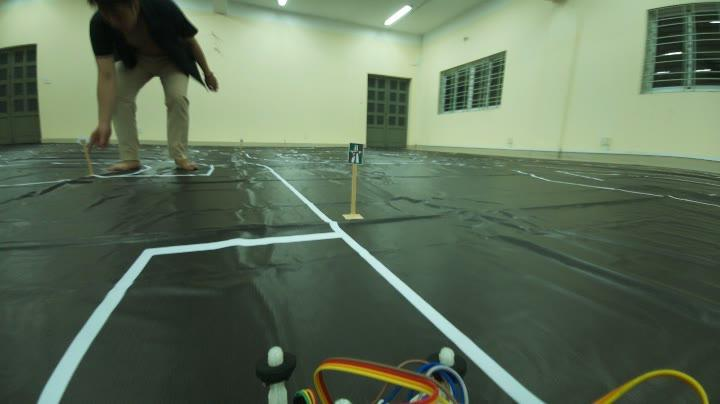highway_exit: (342, 134, 369, 175)
